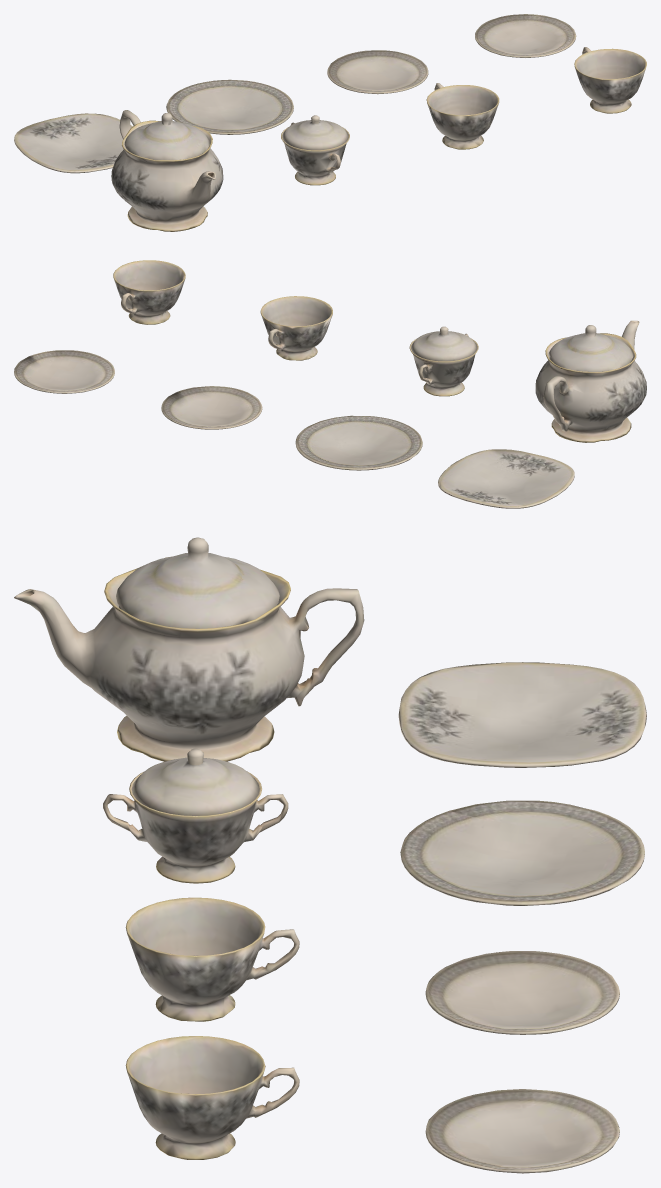
The model's file is tea_set_01.glb.
3 renders of one model, top to bottom at view 1: azimuth 30°, elevation 25°; view 2: azimuth 150°, elevation 25°; view 3: azimuth 270°, elevation 25°, orthographic. The views are drawn at different scales.
Visible parts, largest first — view 1: tea_set_01_plate_large_square_01; view 2: tea_set_01_plate_large_square_01; view 3: tea_set_01_plate_large_square_01.
Part boxes in pixels (x1=…): tea_set_01_plate_large_square_01: x1=14, y1=14, x2=646, y2=231; tea_set_01_plate_large_square_01: x1=14, y1=260, x2=646, y2=508; tea_set_01_plate_large_square_01: x1=14, y1=537, x2=646, y2=1173.
Size of the model in its own units: 0.9182 by 0.1649 by 0.4838.
Materials: 1 (1 with a texture image).
